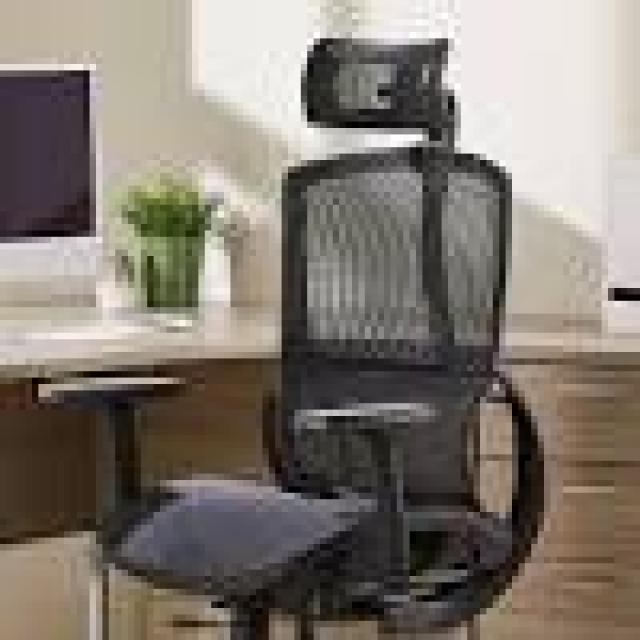chair: (18, 24, 618, 640)
